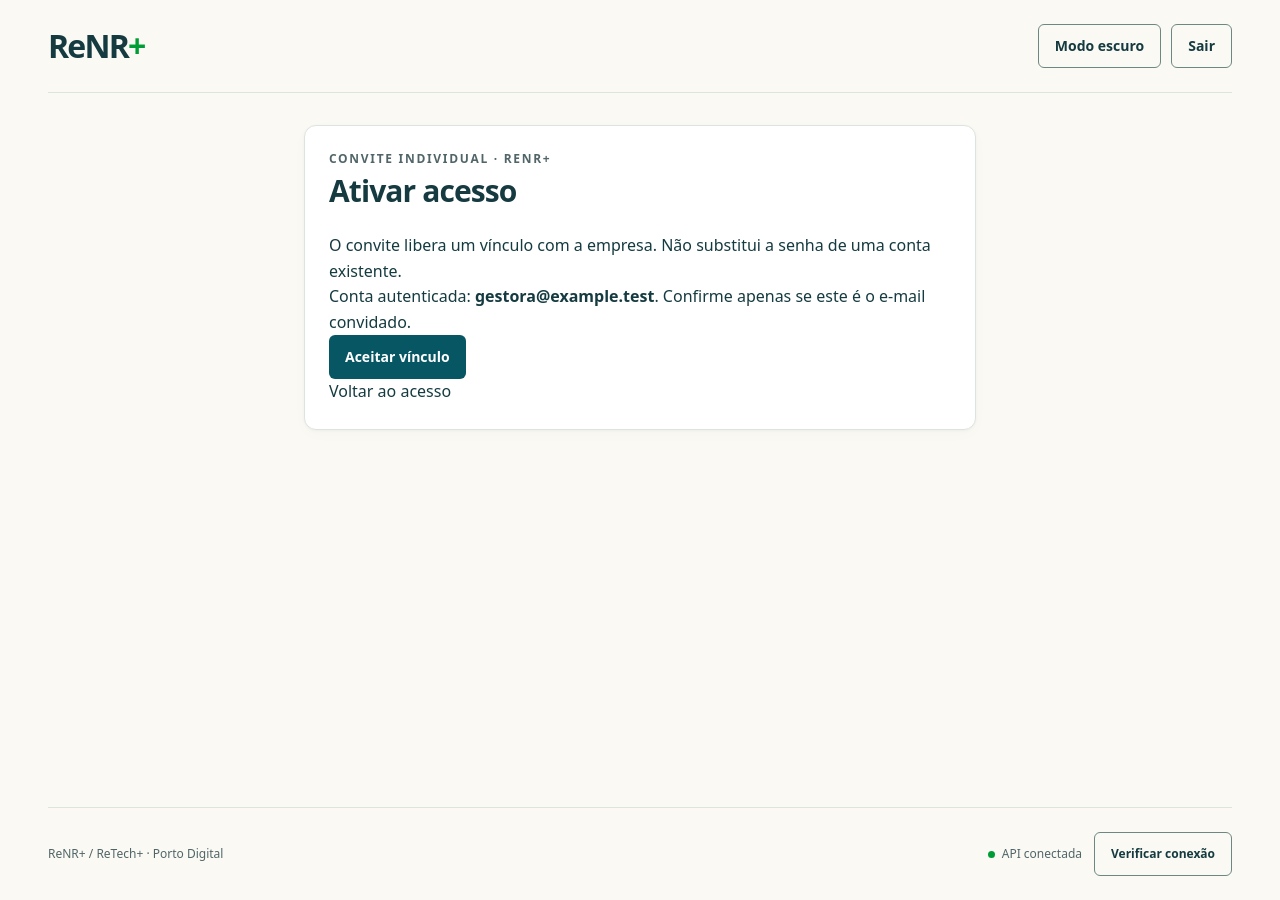
Scenario: conta autenticada aceita convite sem enviar senha nem trocar credenciais
Click the button "Aceitar vínculo". click: (397, 357)
box: [329,335,466,379]
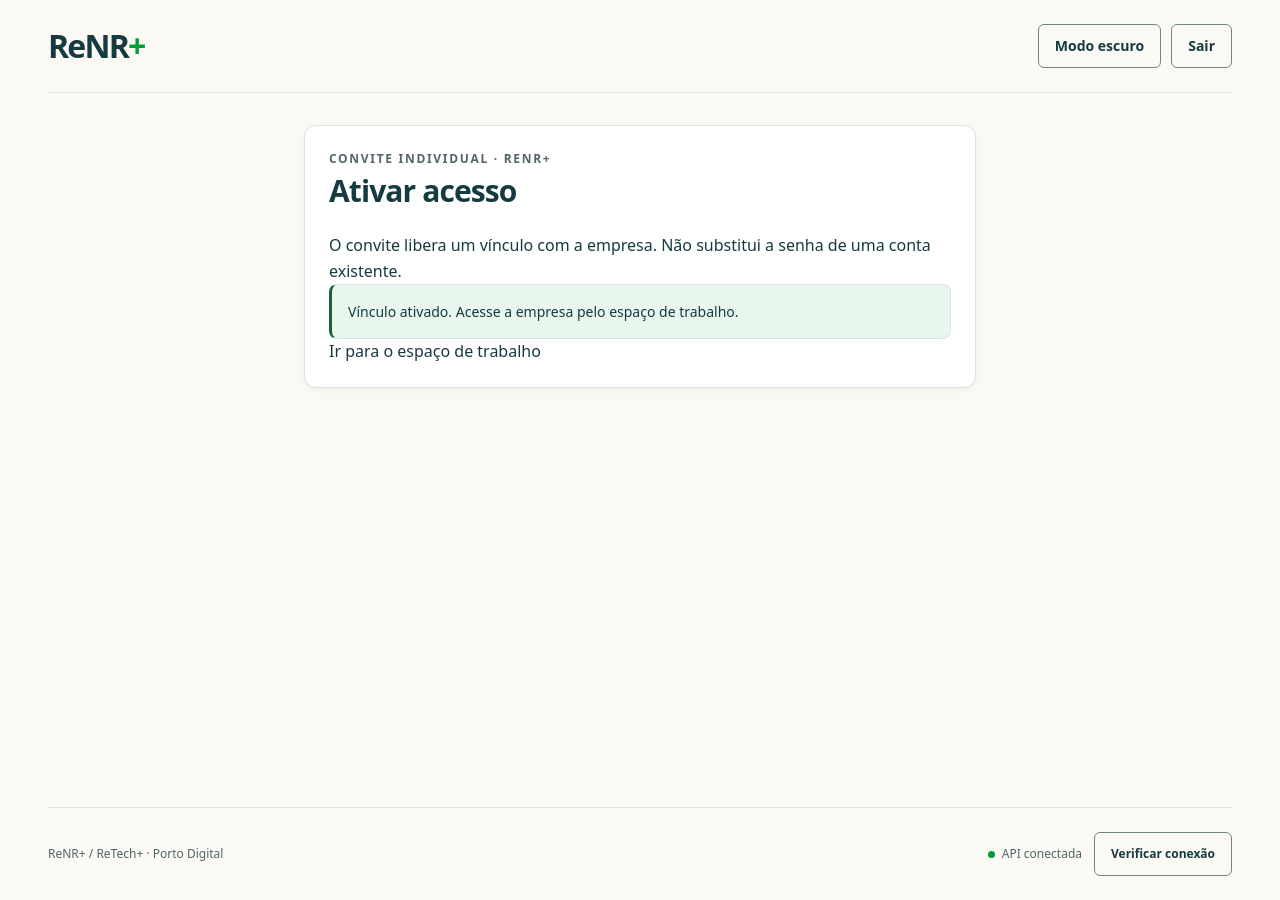
Expected: the text "Vínculo ativado. Acesse a empresa pelo espaço de trabalho." is shown, [329,284,951,339]
